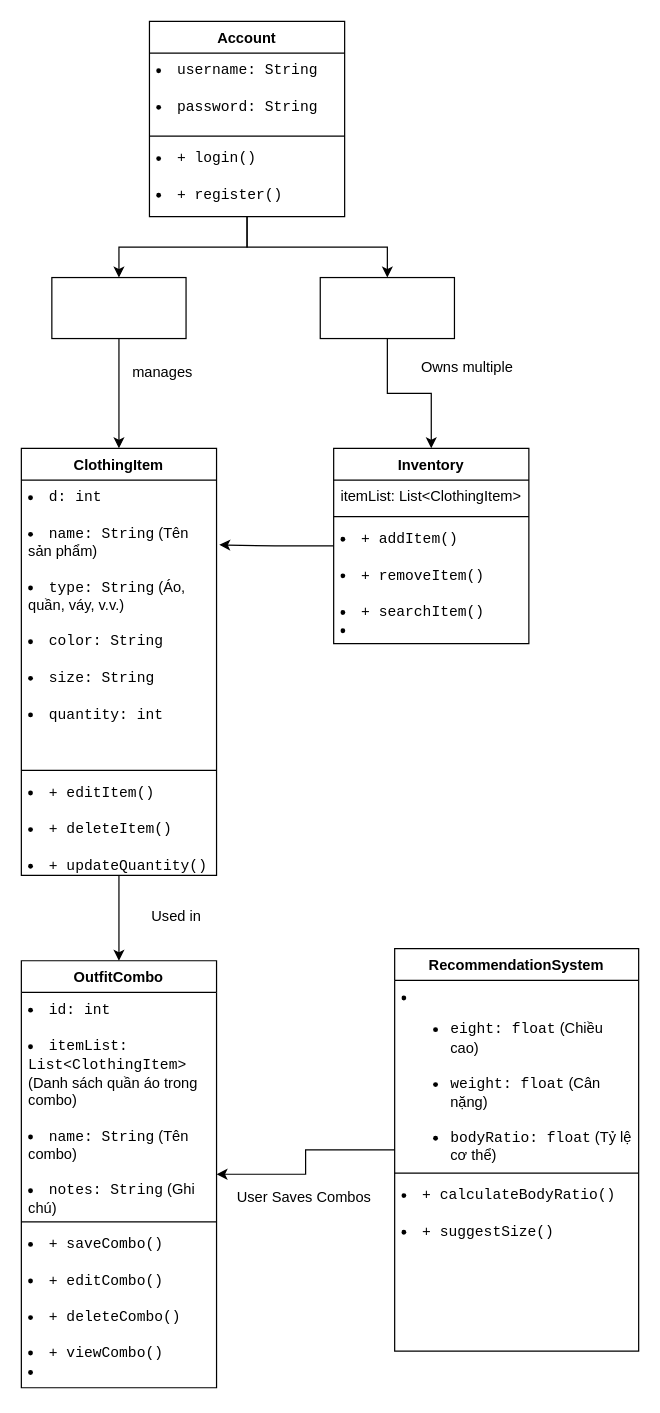
The diagram is 660 pixels wide and 1413 high, and some of its shapes have lost their labels. Here are the shapes that lost their labels. From the top down, the centre of each, then its label:
At pixel 118 307: "Admin".
At pixel 386 307: "User".
